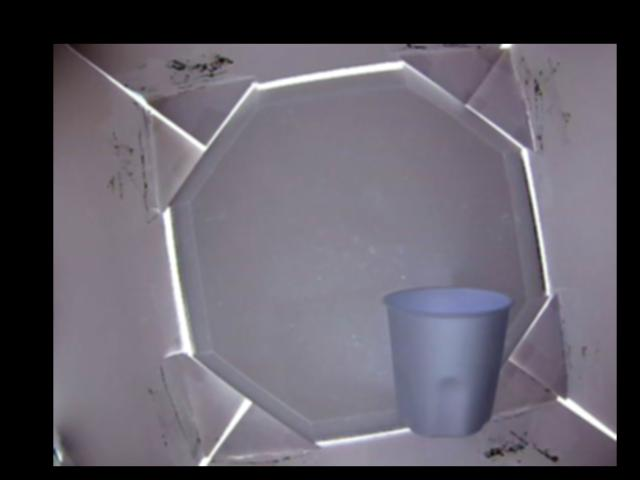Cup: (382, 283, 512, 436)
